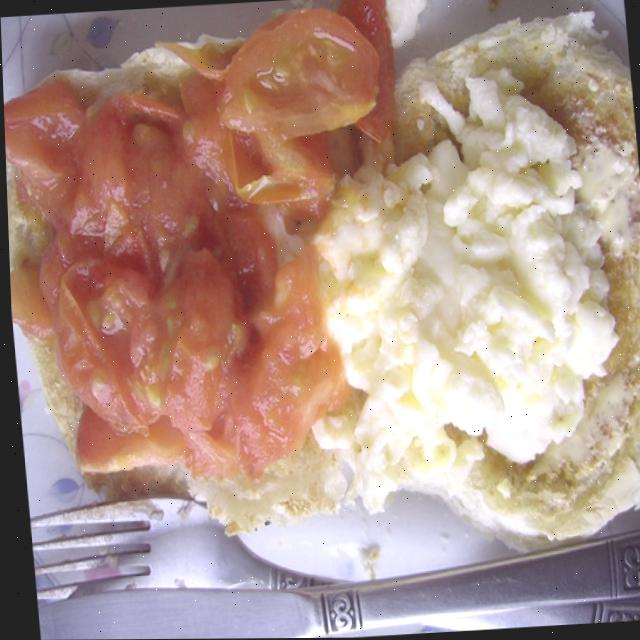鸡蛋料理: (260, 47, 640, 537)
